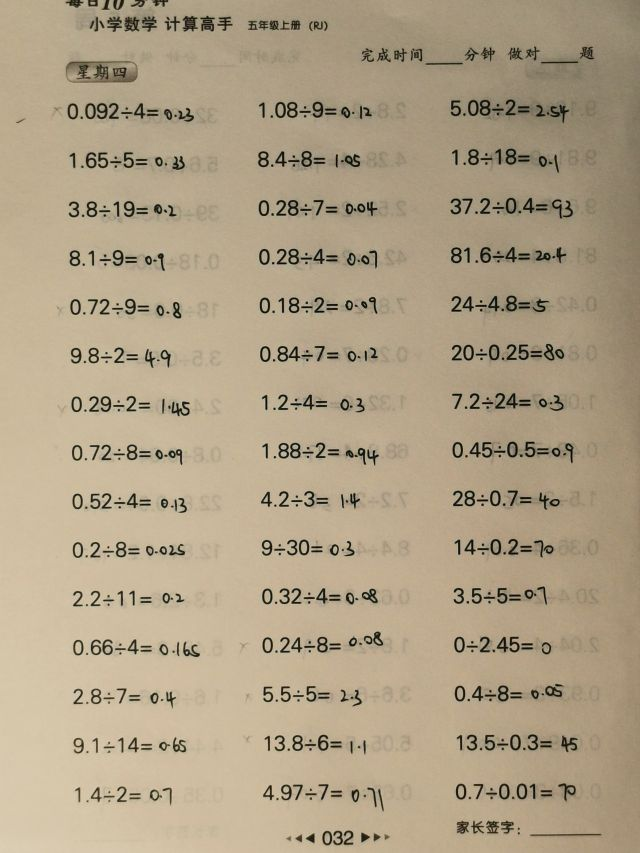equation: (260, 778, 389, 814), (61, 99, 199, 127), (446, 94, 573, 124), (446, 191, 576, 220), (447, 436, 577, 464), (258, 437, 382, 466), (68, 634, 203, 660), (257, 630, 386, 657), (448, 143, 563, 173), (66, 391, 193, 418), (254, 244, 381, 271), (65, 293, 185, 321), (452, 729, 581, 755), (67, 488, 190, 515), (255, 195, 382, 221), (255, 340, 381, 366), (450, 779, 580, 804), (255, 96, 375, 123), (67, 439, 186, 466), (65, 147, 188, 173), (256, 293, 382, 318), (448, 485, 563, 512), (258, 584, 382, 609), (447, 243, 571, 268), (448, 388, 567, 414), (67, 536, 188, 561), (448, 340, 569, 365), (66, 342, 174, 370), (258, 680, 365, 708), (69, 586, 188, 611), (260, 729, 369, 756), (69, 734, 191, 758), (449, 680, 566, 705), (450, 533, 557, 560), (254, 146, 365, 172), (69, 683, 179, 709), (65, 196, 179, 221), (64, 245, 169, 272), (449, 631, 555, 657), (448, 291, 554, 317), (258, 390, 368, 415), (450, 582, 551, 609), (256, 486, 364, 511), (70, 782, 175, 807), (257, 534, 357, 560)
